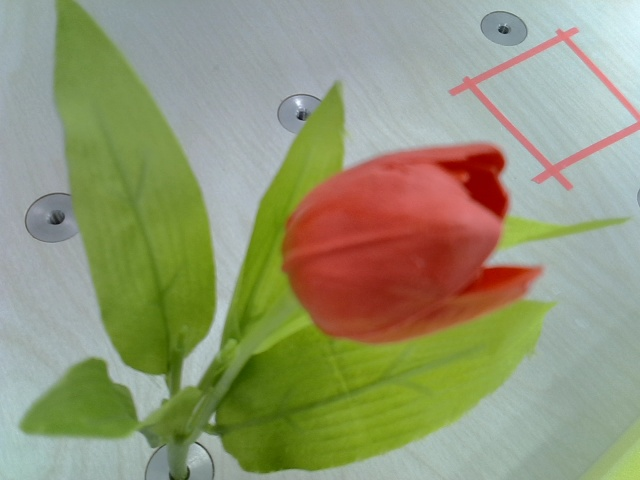튤립: (281, 139, 544, 348)
